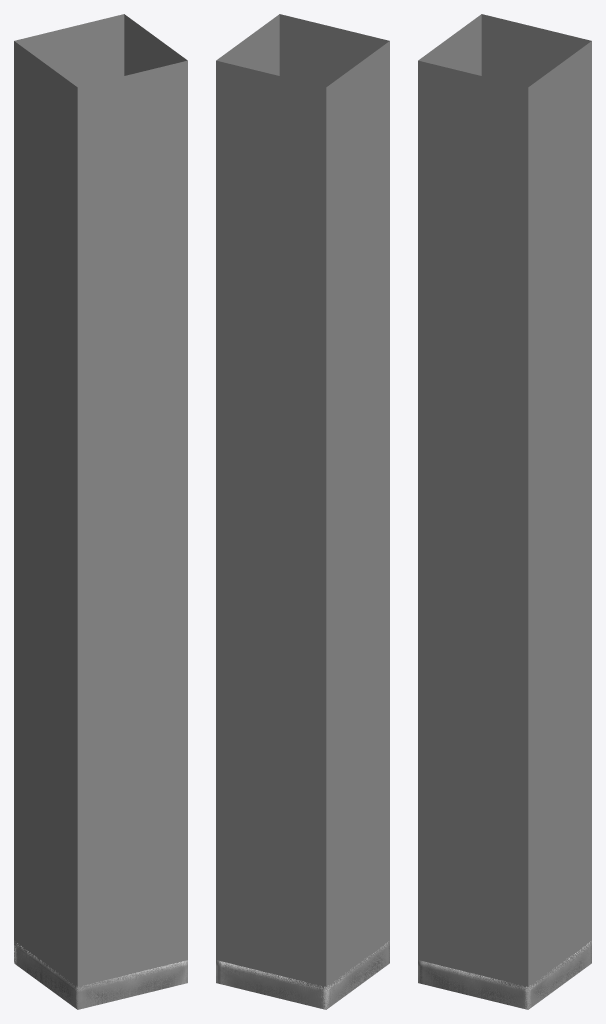
The model's file is stonemonument03.fbx.
3 renders of one model, left to right at view 1: azimuth 30°, elevation 25°; view 2: azimuth 150°, elevation 25°; view 3: azimuth 330°, elevation 25°, orthographic.
Parts seen in each view (by area): view 1: col_w, mdl_LOD0, col_o; view 2: col_w, mdl_LOD0, col_o; view 3: col_w, mdl_LOD0, col_o.
Part boxes in pixels (<box>): col_w: <box>14,14,187,1009</box>; mdl_LOD0: <box>14,940,187,1009</box>; col_o: <box>14,941,187,1009</box>; col_w: <box>216,14,389,1008</box>; mdl_LOD0: <box>216,941,389,1009</box>; col_o: <box>216,941,389,1009</box>; col_w: <box>418,14,591,1008</box>; mdl_LOD0: <box>418,941,591,1009</box>; col_o: <box>418,941,591,1009</box>.
Size of what is drawn, in the model's own units: 100 by 800 by 100.
